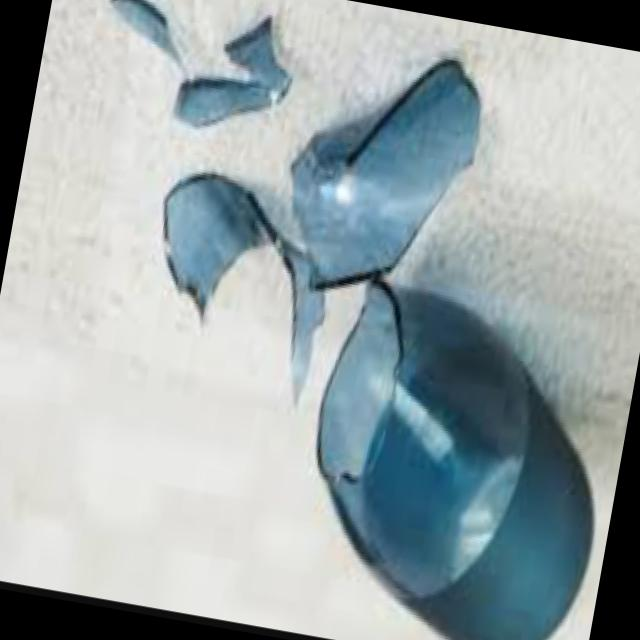PecahanKaca: (7, 0, 640, 640), (279, 274, 632, 640), (270, 36, 493, 320), (89, 0, 305, 147)
